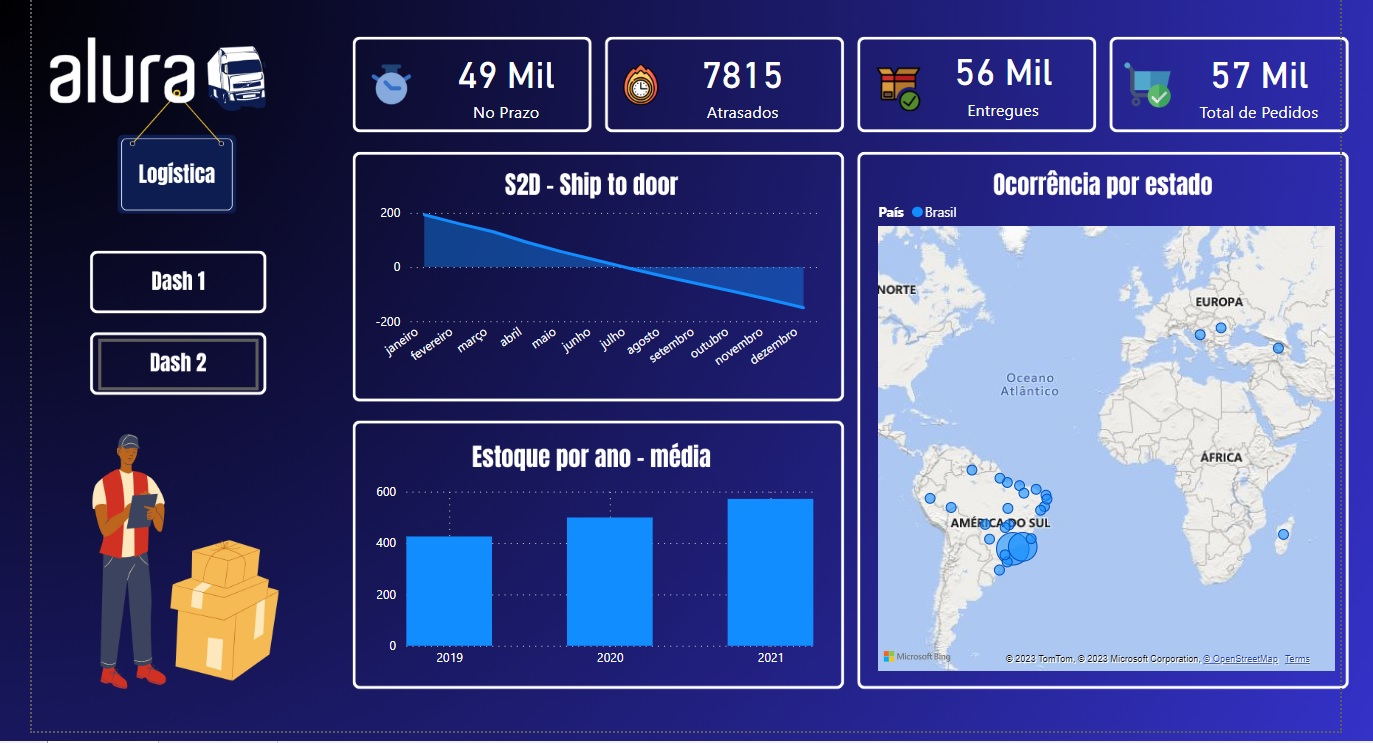

This screenshot's page, from the dashboard's own definition file:
{"tool":"powerbi","page":{"name":"Logística","canvas":[1280,720],"ordinal":0},"visuals":[{"type":"card","fields":{"Values":["Medidas.Atrasados"]},"box":[615.5,33.6,154.5,88.2],"z":0},{"type":"card","fields":{"Values":["Medidas.No Prazo"]},"box":[364.5,38.2,171.8,80],"z":1000},{"type":"card","fields":{"Values":["Medidas.Total de Pedidos"]},"box":[1090.9,35.5,160,82.7],"z":2000},{"type":"card","fields":{"Values":["Medidas.Entregues"]},"box":[852.7,35.5,159.1,85.5],"z":3000},{"type":"map","fields":{"Category":["Pedidos.UF da entrega","Pedidos.Latitude","Pedidos.Longitude"],"Size":["Sum(Pedidos.Quantidade)"],"Series":["Pedidos.País"]},"box":[812.7,191.8,457.3,474.5],"z":4000},{"type":"areaChart","fields":{"Category":["Pedidos.Data da compra.Variation.Hierarquia de datas.Mês"],"Y":["Avg(Pedidos.S2D)"]},"box":[326.4,199.1,446.4,181.8],"z":5000},{"type":"clusteredColumnChart","fields":{"Category":["Estoque.Data atualização.Variation.Hierarquia de datas.Ano"],"Y":["Avg(Estoque.Quantidade)"]},"box":[331.3,471.9,437.9,194.3],"z":6000},{"type":"actionButton","box":[62.7,331.8,156.4,49.1],"z":7000}]}

Visuals, with their boxes on the page's 1280x720 design canvas (x1, y1, x2, y2). These are canvas units, not pixel positions in the 1373x743 screenshot, which may show the page scaled, cropped or inside an application window:
card - Medidas.Atrasados: <box>616,34,770,122</box>
card - Medidas.No Prazo: <box>364,38,536,118</box>
card - Medidas.Total de Pedidos: <box>1091,36,1251,118</box>
card - Medidas.Entregues: <box>853,36,1012,121</box>
map - Pedidos.UF da entrega x Pedidos.Latitude: <box>813,192,1270,666</box>
areaChart - Pedidos.Data da compra.Variation.Hierarquia de datas.Mês x Avg(Pedidos.S2D): <box>326,199,773,381</box>
clusteredColumnChart - Estoque.Data atualização.Variation.Hierarquia de datas.Ano x Avg(Estoque.Quantidade): <box>331,472,769,666</box>
actionButton: <box>63,332,219,381</box>
